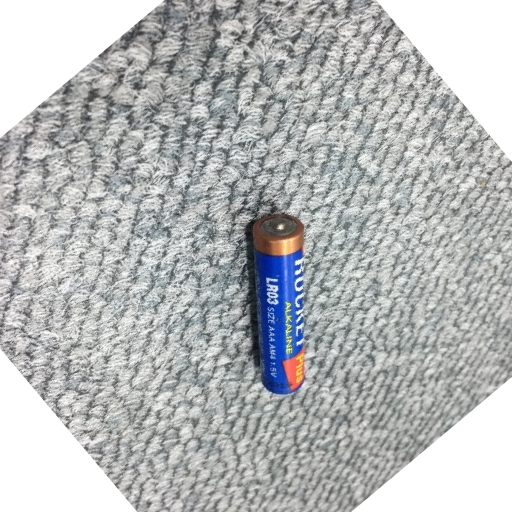Battery_0: (246, 209, 318, 401)
